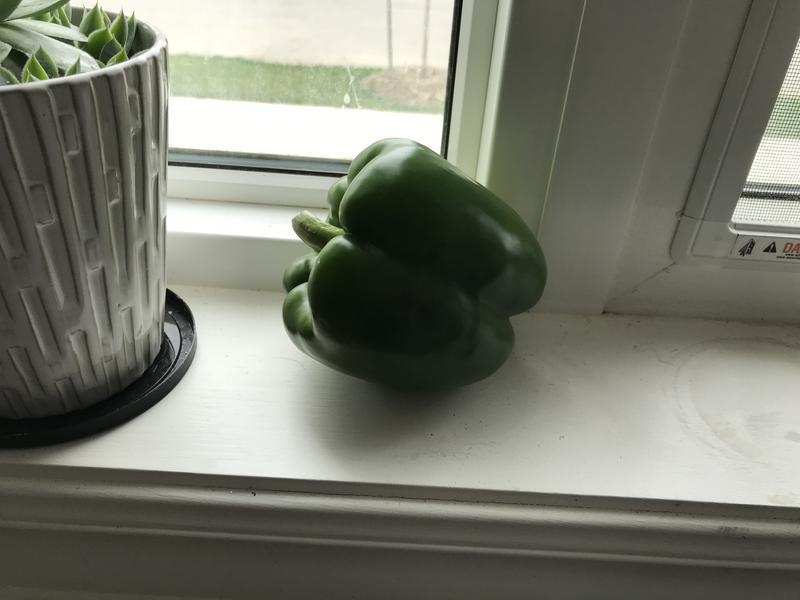green_pepper: (269, 129, 560, 412)
